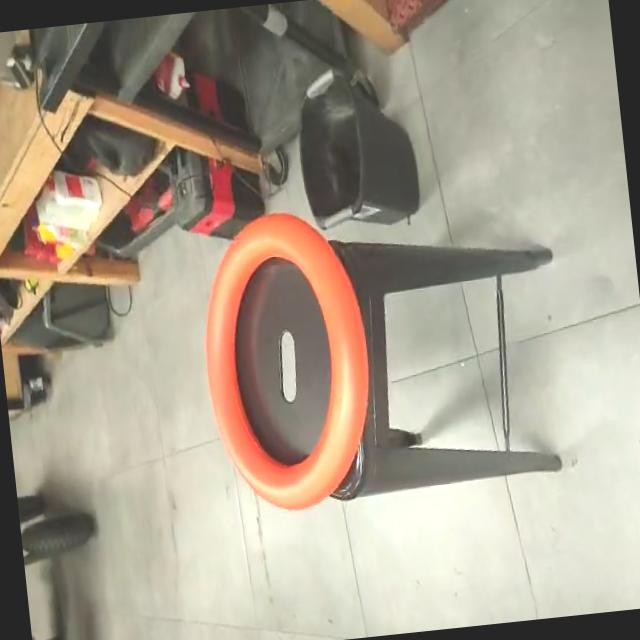note: (191, 205, 393, 520)
